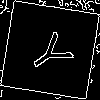Y: (25, 25, 82, 79)
